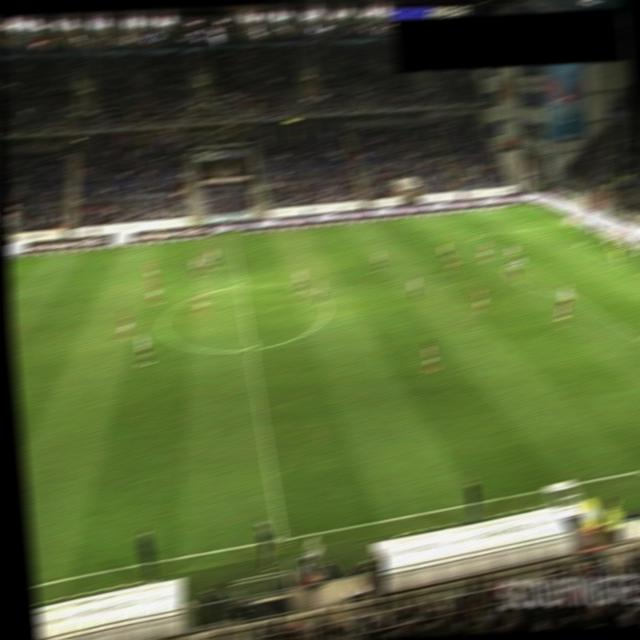bigarea_top_inner: (468, 230, 485, 242)
bigarea_top_outter: (563, 220, 580, 232)
bottom_arc_area_intersection: (566, 292, 584, 304)
corner: (519, 200, 537, 212)
halfcircle_bottom: (242, 342, 260, 354)
halfcircle_top: (232, 278, 250, 290)
midline_bottom_intersection: (271, 530, 292, 548)
midline_top_intersection: (225, 228, 242, 240)
smallarea_top_inner: (572, 240, 589, 252)
smallarea_top_outter: (604, 237, 622, 249)
top_arc_area_intersection: (506, 253, 524, 265)
